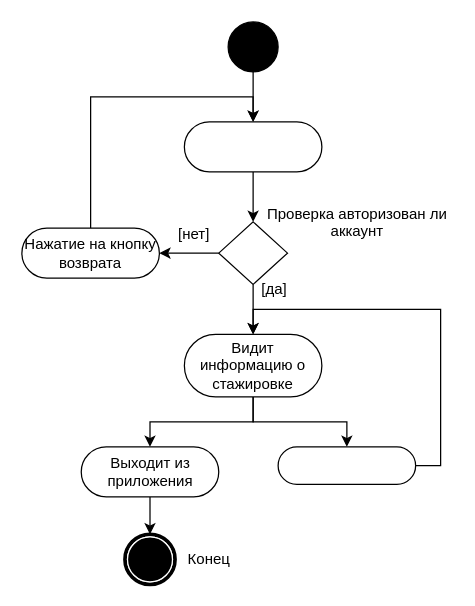
Some shapes in this 475 by 606 pixel diagram are drawn without their labels. The shapes that lost their labels are listed below. From the top down, each one's centre as x and y in pixels, then its label:
At pixel 252 146: "Интерн заходит в приложение".
At pixel 346 465: "Меняет аватар".
